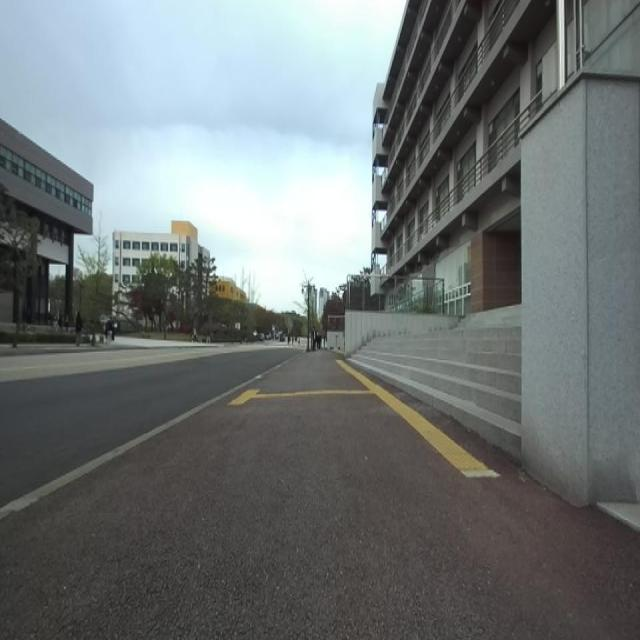sidewalk: (0, 353, 640, 640), (0, 357, 294, 520), (0, 374, 263, 520), (337, 360, 500, 478), (249, 388, 259, 398), (250, 379, 256, 381)
